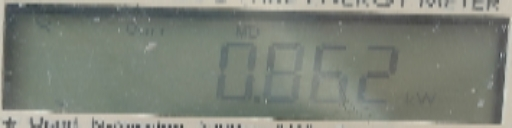0: (217, 36, 255, 103)
2: (354, 34, 403, 111)
6: (307, 38, 350, 109)
8: (265, 39, 300, 103)
d: (251, 90, 262, 104)
